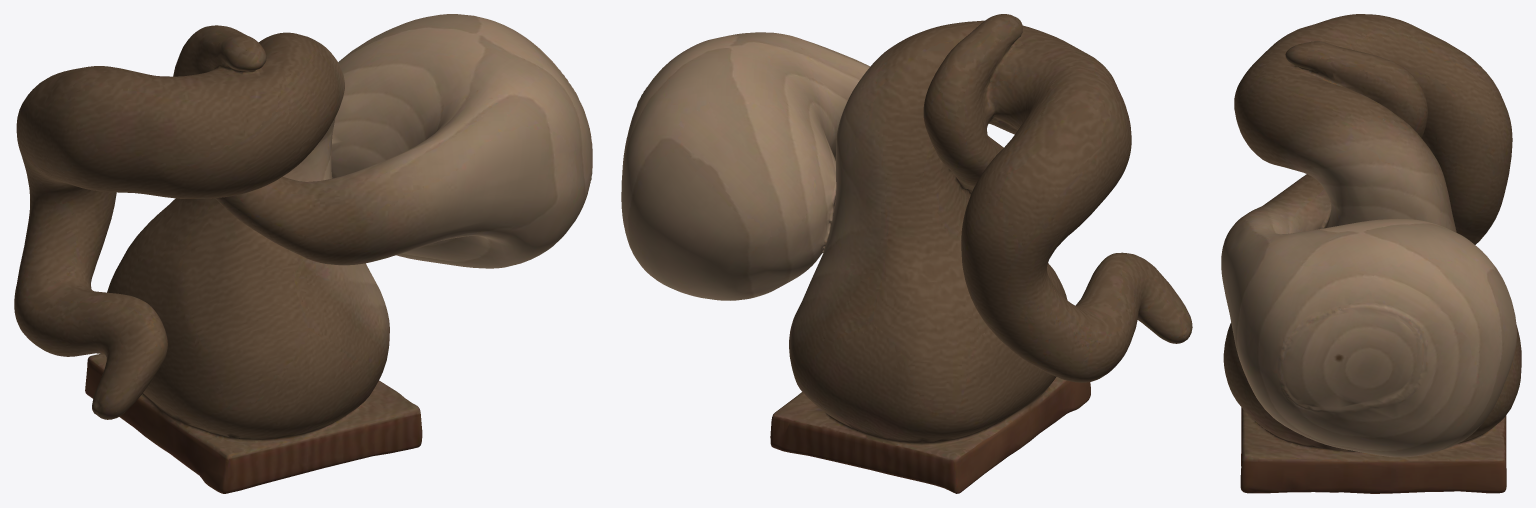
File: karya-03.glb
3 views of the same model, side by side, from view 1: azimuth 30°, elevation 25°; view 2: azimuth 150°, elevation 25°; view 3: azimuth 270°, elevation 25° (orthographic). The views are drawn at different scales.
Visible parts, largest first — view 1: K03HY_Wood; view 2: K03HY_Wood; view 3: K03HY_Wood.
Part boxes in pixels (box(x1,y1,x2,y2)): K03HY_Wood: box(14, 14, 592, 493); K03HY_Wood: box(621, 14, 1192, 493); K03HY_Wood: box(1221, 14, 1521, 493).
Size of the model in its own units: 0.2321 by 0.1782 by 0.1248.
Materials: 1 (1 with a texture image).
